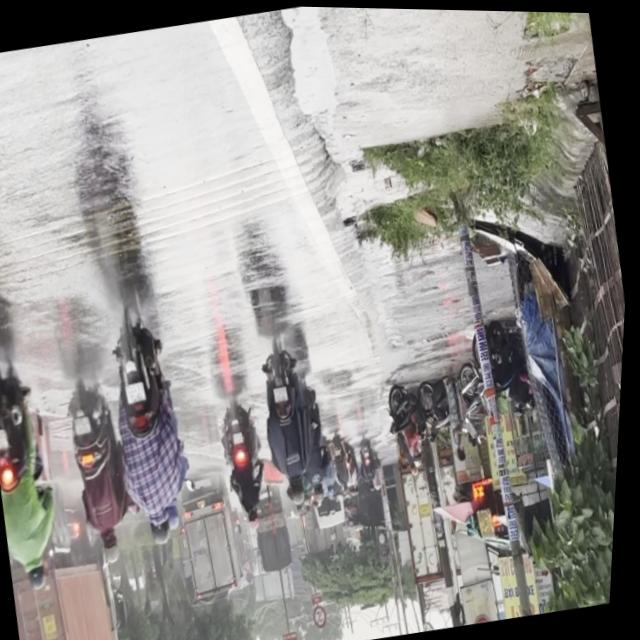helmet: (27, 559, 54, 593), (150, 513, 177, 546), (102, 531, 126, 566), (169, 504, 186, 531)
licenseplate: (93, 294, 209, 552), (0, 334, 78, 598), (56, 376, 147, 569)
nohelmet: (127, 380, 149, 403), (76, 417, 95, 435), (0, 429, 12, 451)
